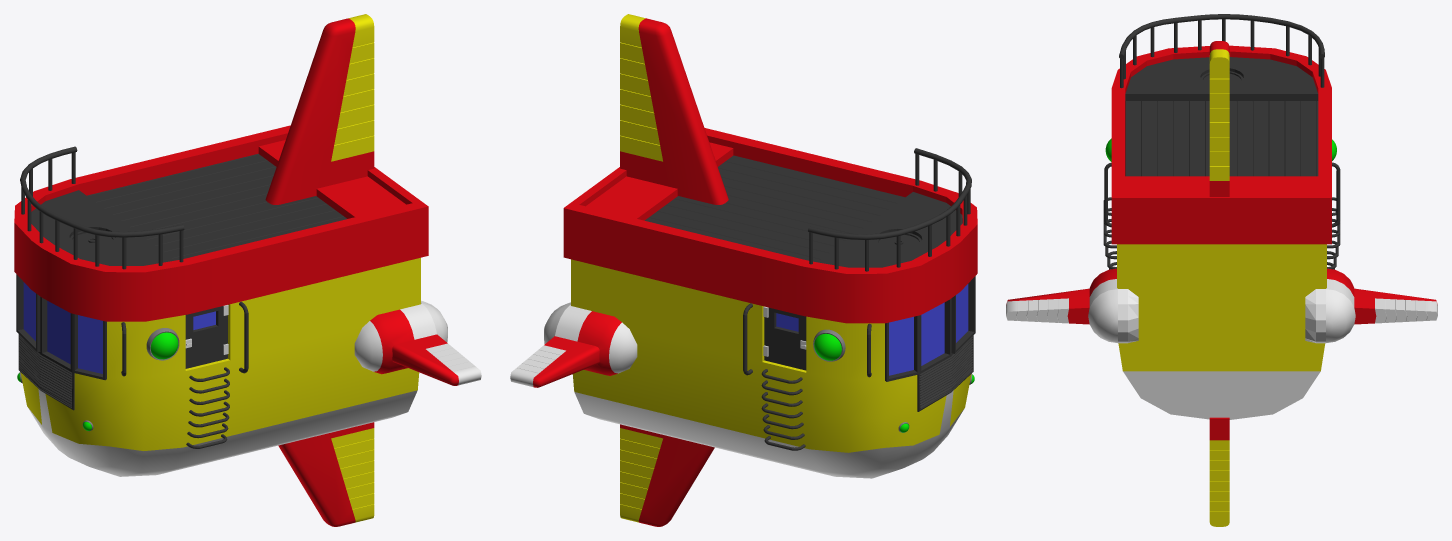
Rendered from Flutter.glb.
3 views of the same model, side by side, from view 1: azimuth 30°, elevation 25°; view 2: azimuth 150°, elevation 25°; view 3: azimuth 270°, elevation 25° (orthographic). The views are drawn at different scales.
Visible parts, largest first — view 1: Box001, Object009, Object002, Box008, Object005, Object014, Object001, Arc001, Object011, Object004, Object003, Cylinder003 (+6 smaller); view 2: Box001, Object009, Object002, Box008, Object005, Object014, Object001, Object011, Object004, Arc001, Object003, Cylinder003 (+6 smaller); view 3: Box001, Object009, Object002, Object005, Object001, Cylinder003, Object014, Object012, Arc001, Object011, Box008, Cylinder012 (+1 smaller).
Boxes of the visible parts, bbox=[...] form: Box001: bbox=[20, 257, 420, 450]; Object009: bbox=[14, 125, 428, 321]; Object002: bbox=[87, 153, 346, 260]; Box008: bbox=[265, 18, 374, 526]; Object005: bbox=[28, 389, 417, 476]; Object014: bbox=[331, 14, 374, 522]; Object001: bbox=[31, 190, 174, 265]; Arc001: bbox=[20, 146, 184, 269]; Object011: bbox=[370, 309, 458, 385]; Object004: bbox=[23, 282, 102, 373]; Object003: bbox=[16, 274, 106, 380]; Cylinder003: bbox=[354, 300, 447, 371]; Box001: bbox=[571, 259, 971, 452]; Object009: bbox=[563, 128, 977, 323]; Object002: bbox=[645, 155, 904, 262]; Box008: bbox=[620, 18, 728, 526]; Object005: bbox=[574, 390, 963, 478]; Object014: bbox=[620, 14, 662, 522]; Object001: bbox=[817, 192, 962, 267]; Object011: bbox=[533, 311, 621, 387]; Object004: bbox=[889, 284, 968, 375]; Arc001: bbox=[808, 148, 971, 271]; Object003: bbox=[885, 276, 975, 381]; Cylinder003: bbox=[544, 302, 637, 373]; Box001: bbox=[1117, 244, 1326, 371]; Object009: bbox=[1111, 45, 1331, 244]; Object002: bbox=[1125, 101, 1318, 176]; Object005: bbox=[1123, 371, 1320, 419]; Object001: bbox=[1125, 57, 1318, 100]; Cylinder003: bbox=[1088, 279, 1355, 343]; Object014: bbox=[1209, 49, 1229, 526]; Object012: bbox=[1006, 298, 1437, 323]; Arc001: bbox=[1119, 14, 1324, 88]; Object011: bbox=[1006, 268, 1437, 324]; Box008: bbox=[1209, 41, 1229, 440]; Cylinder012: bbox=[1103, 197, 1340, 269].
Size of the model in its own units: 24.23 by 32.92 by 27.44.
